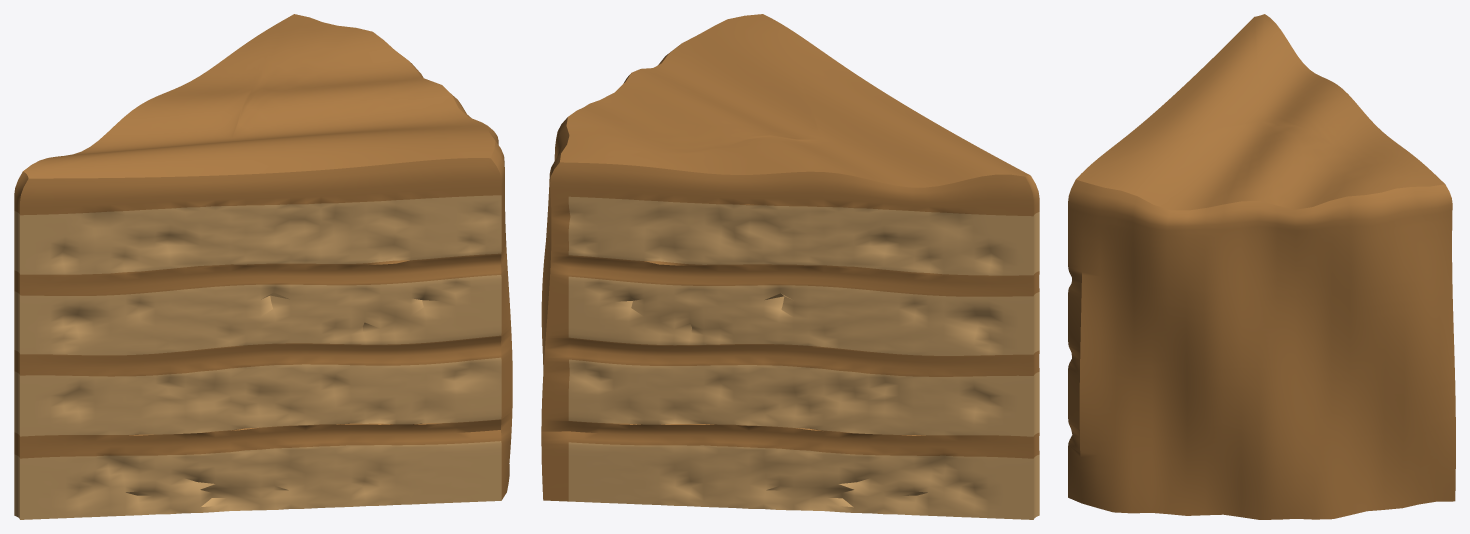
3 renders of one model, left to right at view 1: azimuth 30°, elevation 25°; view 2: azimuth 150°, elevation 25°; view 3: azimuth 270°, elevation 25°, orthographic. The views are drawn at different scales.
Visible parts, largest first — view 1: Whole layer cake serving; view 2: Whole layer cake serving; view 3: Whole layer cake serving.
Boxes of the visible parts, box(x1,y1,x2,y2) form: Whole layer cake serving: box(14, 14, 512, 519); Whole layer cake serving: box(541, 14, 1039, 519); Whole layer cake serving: box(1068, 14, 1455, 519).
Bounding box in the file's own units: 0.1057 × 0.0802 × 0.0886.
